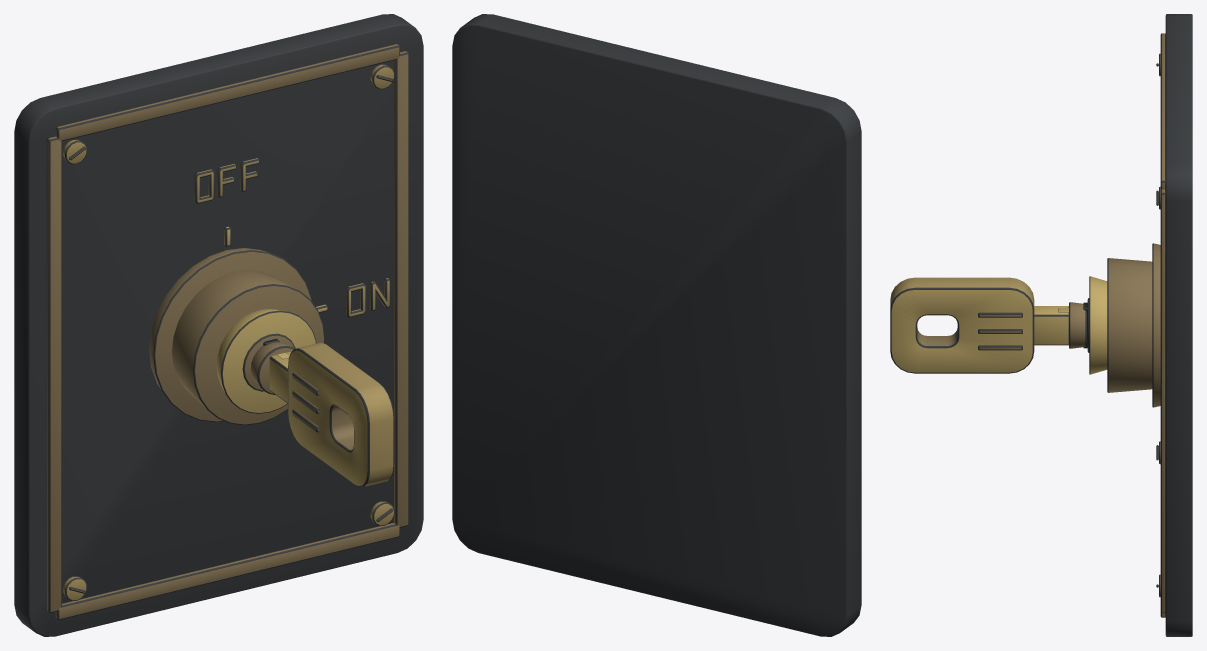
File: key_switch.fbx
3 renders of one model, left to right at view 1: azimuth 30°, elevation 25°; view 2: azimuth 150°, elevation 25°; view 3: azimuth 270°, elevation 25°, orthographic. The views are drawn at different scales.
Visible parts, largest first — view 1: KS_StaticHousing, KS_MovingKey; view 2: KS_StaticHousing; view 3: KS_StaticHousing, KS_MovingKey.
Boxes of the visible parts, <box> form: KS_StaticHousing: <box>14,14,423,636</box>; KS_MovingKey: <box>250,342,394,487</box>; KS_StaticHousing: <box>452,14,861,636</box>; KS_StaticHousing: <box>1083,14,1192,636</box>; KS_MovingKey: <box>890,277,1086,373</box>.
Bounding box in the file's own units: 18 × 23 × 13.43.
